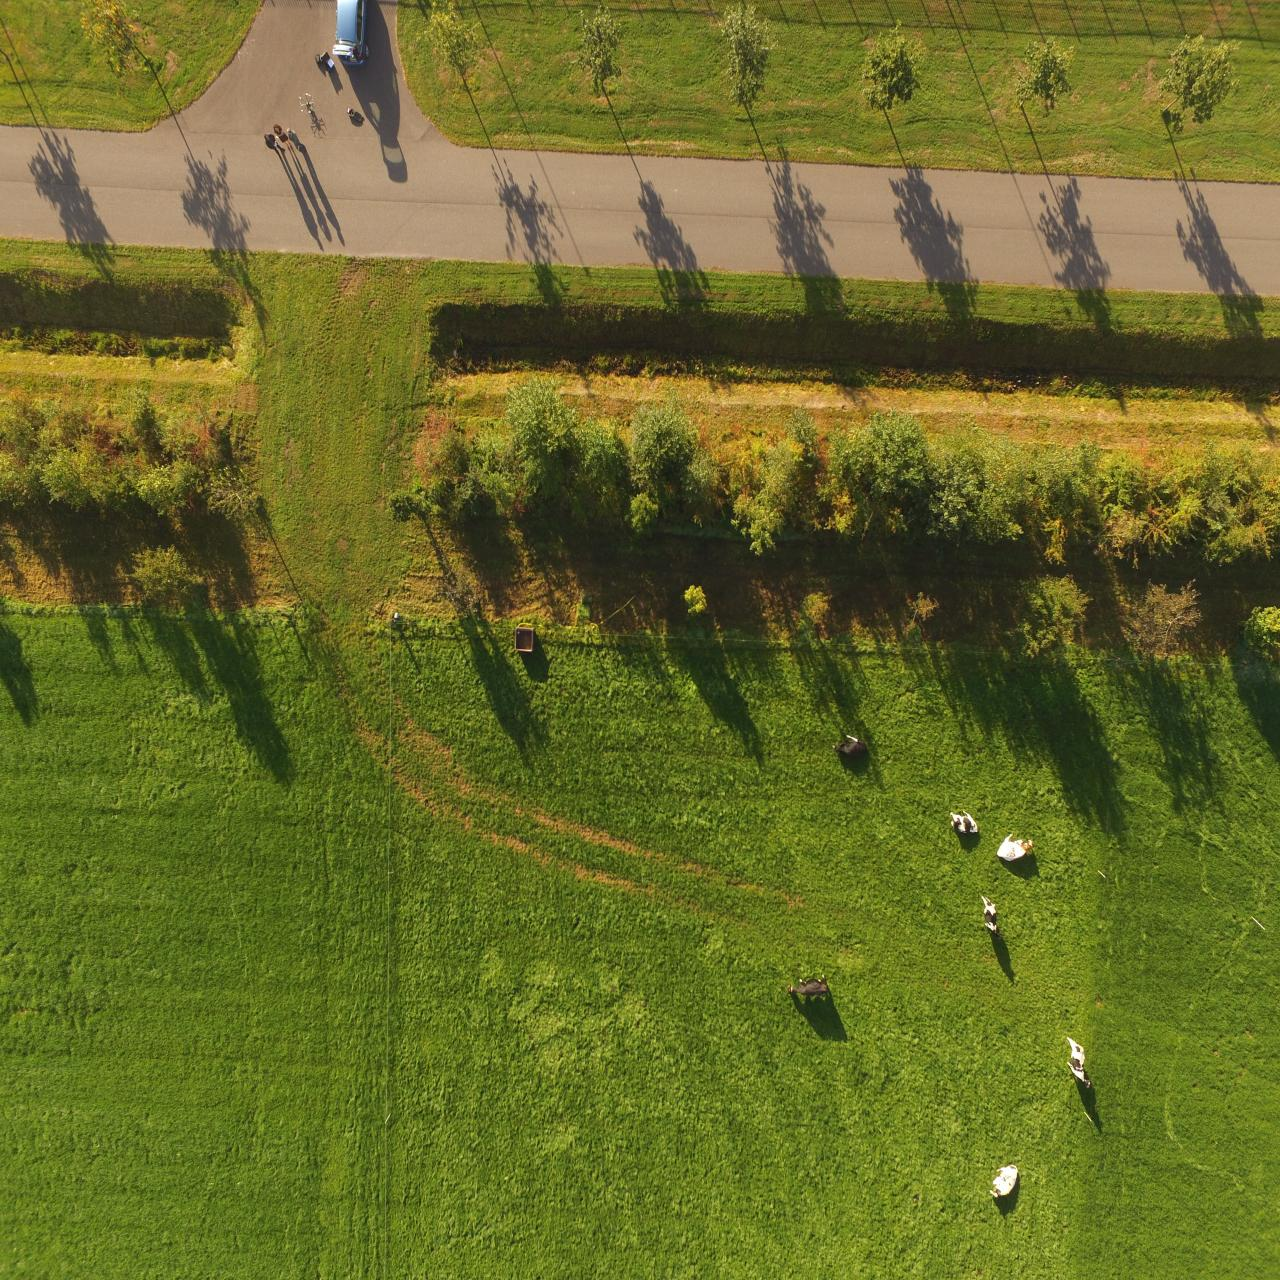cow: (989, 824, 1046, 869), (784, 965, 832, 1013), (983, 1157, 1026, 1207), (1063, 1035, 1092, 1097), (975, 888, 1003, 948), (832, 723, 865, 772), (946, 805, 981, 845)
